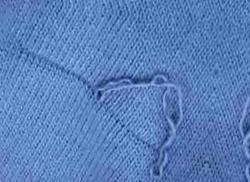snag: (87, 80, 118, 114)
